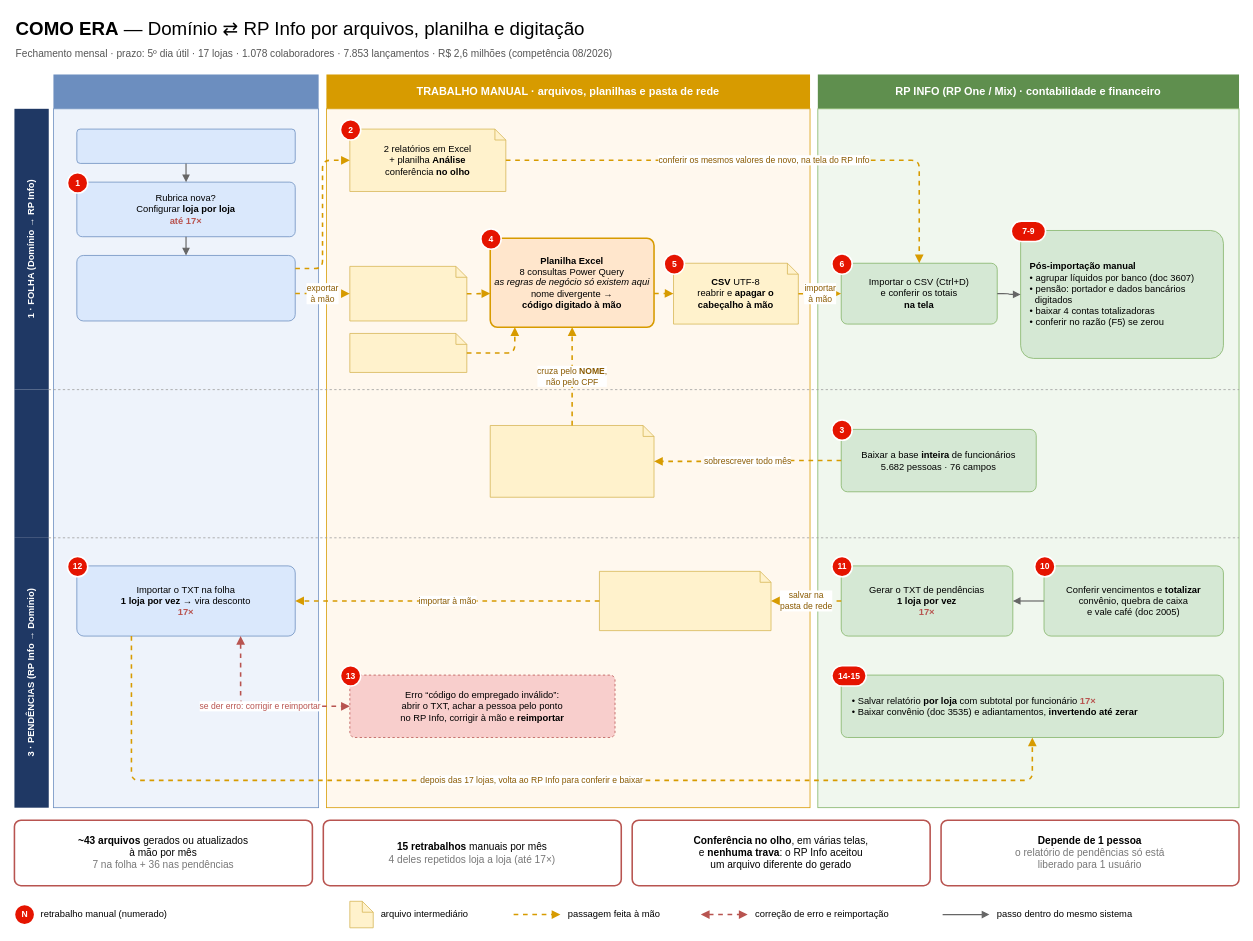
The diagram is 1253 pixels wide and 941 high, and some of its shapes have lost their labels. Here are the shapes that lost their labels. From the top down, the centre of each, then its label:
At [185,91]: "DOMÍNIO · calcula a folha".
At [185,145]: "Fechar a folha".
At [185,288]: "Exportar o TXT da folha e 2 relatórios (Integração Contábil e Resumo Mensal)".
At [408,293]: "TXT da folha 6.849 linhas".
At [408,352]: "Plano Gerencial RP.txt (plano de contas)".
At [31,463]: "2 · FUNCIONÁRIOS".
At [571,461]: "dfunc.txt na pasta de rede CPF, RG, salário, conta bancária risco LGPD".
At [685,601]: "17 arquivos TXT (1 por loja) layout documentado ≠ real".
